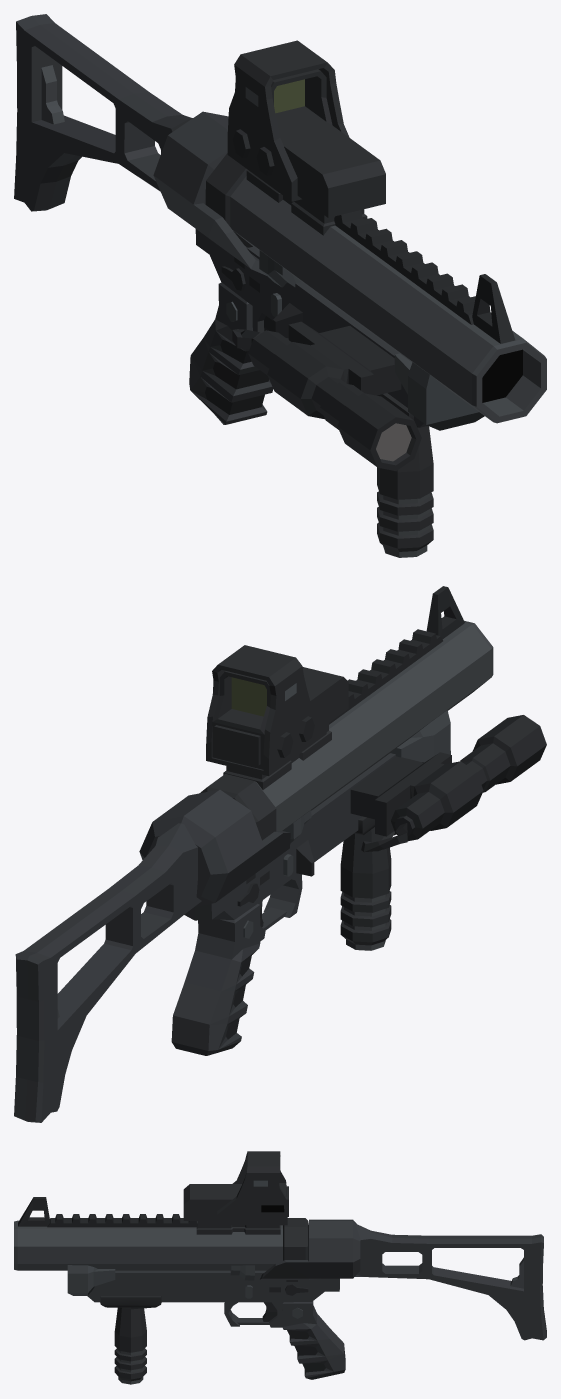
File: SM_Wep_Launcher_01.fbx
The picture shows the model from 3 angles, top to bottom: view 1: azimuth 30°, elevation 25°; view 2: azimuth 150°, elevation 25°; view 3: azimuth 270°, elevation 25°; orthographic projection. The views are drawn at different scales.
Parts seen in each view (by area): view 1: SM_Wep_Launcher_01, SM_Wep_Launcher_01_Sight_01, SM_Wep_Launcher_01_Sight_Glass_01; view 2: SM_Wep_Launcher_01, SM_Wep_Launcher_01_Sight_01, SM_Wep_Launcher_01_Sight_Glass_01; view 3: SM_Wep_Launcher_01, SM_Wep_Launcher_01_Sight_01.
Boxes of the visible parts, x1=… form: SM_Wep_Launcher_01: x1=14, y1=14, x2=546, y2=557; SM_Wep_Launcher_01_Sight_01: x1=227, y1=40, x2=385, y2=235; SM_Wep_Launcher_01_Sight_Glass_01: x1=274, y1=79, x2=304, y2=113; SM_Wep_Launcher_01: x1=14, y1=586, x2=546, y2=1122; SM_Wep_Launcher_01_Sight_01: x1=206, y1=645, x2=348, y2=789; SM_Wep_Launcher_01_Sight_Glass_01: x1=231, y1=677, x2=266, y2=716; SM_Wep_Launcher_01: x1=14, y1=1197, x2=546, y2=1384; SM_Wep_Launcher_01_Sight_01: x1=183, y1=1151, x2=288, y2=1234.
Size of the model in its own units: 15.08 by 34.54 by 75.73.
Materials: 1 (1 with a texture image).
